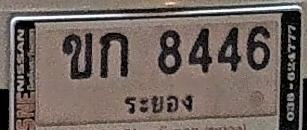4: (188, 27, 212, 73), (218, 26, 240, 72)
6: (246, 25, 270, 70)
8: (158, 29, 182, 74)
A01: (100, 32, 128, 78)
A02: (62, 32, 92, 79)
RYG: (122, 90, 198, 119)
